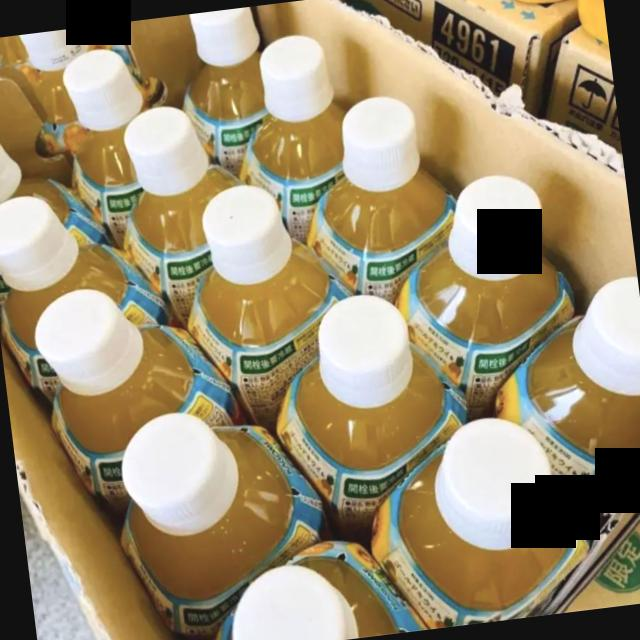juice: (118, 412, 325, 634), (371, 418, 589, 627), (276, 296, 467, 532), (396, 176, 576, 422), (35, 289, 235, 501), (187, 185, 349, 419), (0, 194, 168, 402), (498, 277, 640, 510), (308, 97, 454, 306), (123, 107, 239, 320), (243, 36, 348, 244), (213, 541, 421, 640), (62, 50, 143, 246), (184, 7, 268, 165), (0, 144, 101, 241)
